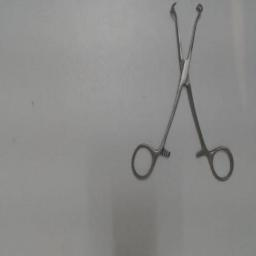Babcock Tissue Forceps: (128, 2, 240, 184)
